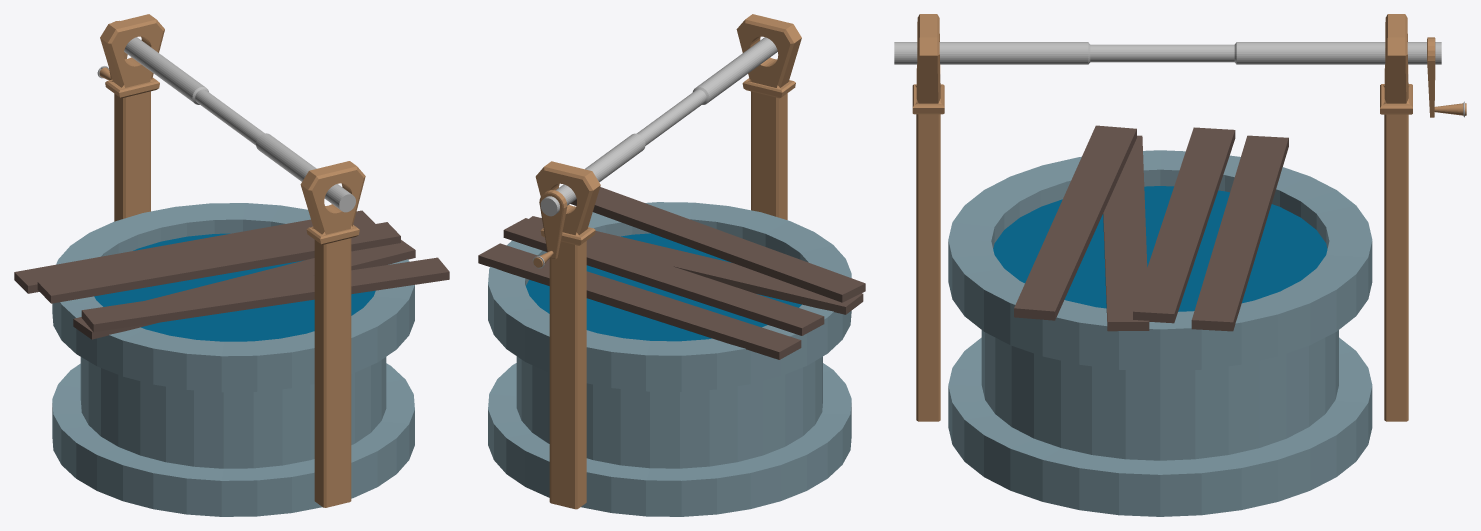
The model's file is BrokenWell.fbx.
3 renders of one model, left to right at view 1: azimuth 30°, elevation 25°; view 2: azimuth 150°, elevation 25°; view 3: azimuth 270°, elevation 25°, orthographic. The views are drawn at different scales.
Visible parts, largest first — view 1: Cylinder.003; view 2: Cylinder.003; view 3: Cylinder.003.
Part boxes in pixels (x1,y1,x2,y2): Cylinder.003: (14, 14, 449, 516); Cylinder.003: (478, 14, 865, 516); Cylinder.003: (894, 14, 1466, 516).
Bounding box in the file's own units: 71.1 × 71.33 × 92.08.
